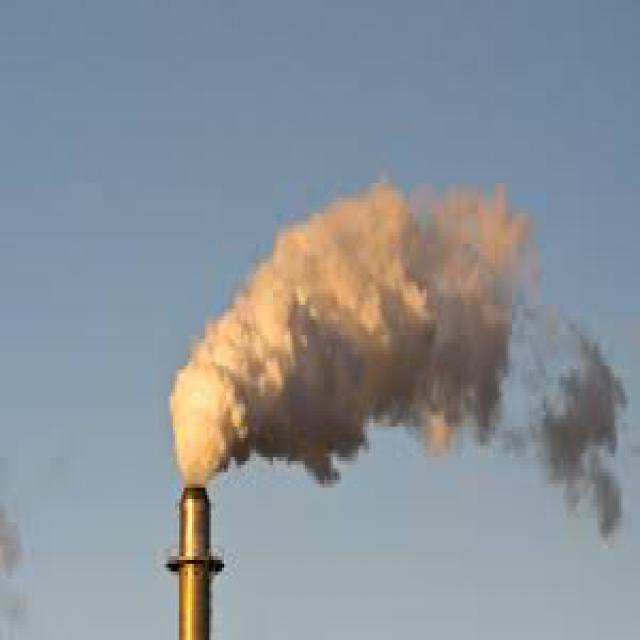Smoke: (118, 188, 640, 517), (0, 440, 37, 640)
